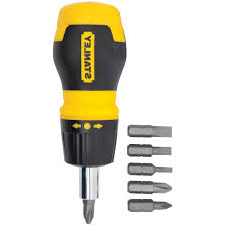Screwdriver: (42, 1, 124, 223)
